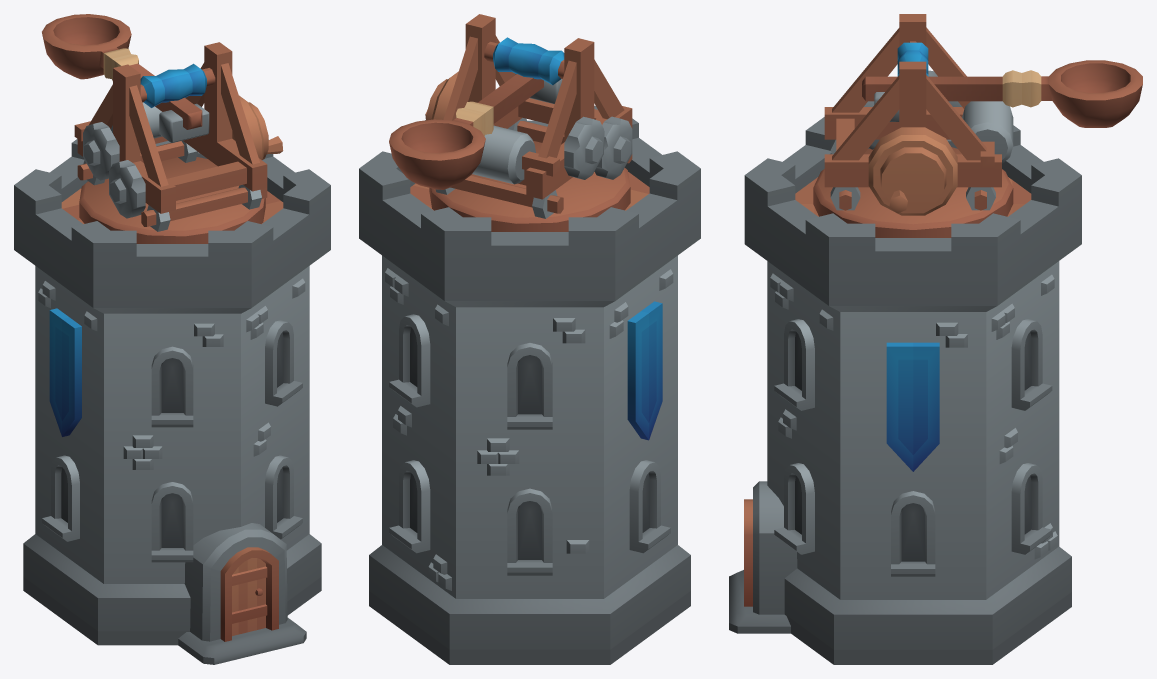
Rendered from building_tower_catapult_blue.glb.
3 views of the same model, side by side, from view 1: azimuth 30°, elevation 25°; view 2: azimuth 150°, elevation 25°; view 3: azimuth 270°, elevation 25° (orthographic). The views are drawn at different scales.
Visible parts, largest first — view 1: building_tower_catapult_blue, catapult_turret_blue, catapult_arm_blue; view 2: building_tower_catapult_blue, catapult_turret_blue, catapult_arm_blue; view 3: building_tower_catapult_blue, catapult_turret_blue, catapult_arm_blue.
Part boxes in pixels (x1,y1,x2,y2): building_tower_catapult_blue: (14,139,330,664); catapult_turret_blue: (74,42,283,243); catapult_arm_blue: (42,14,209,142); building_tower_catapult_blue: (359,106,700,664); catapult_turret_blue: (425,14,632,231); catapult_arm_blue: (389,74,562,189); building_tower_catapult_blue: (729,117,1081,664); catapult_turret_blue: (813,14,1013,237); catapult_arm_blue: (862,60,1142,127).
Size of the model in its own units: 0.9298 by 1.96 by 1.3.
Materials: 1 (1 with a texture image).
